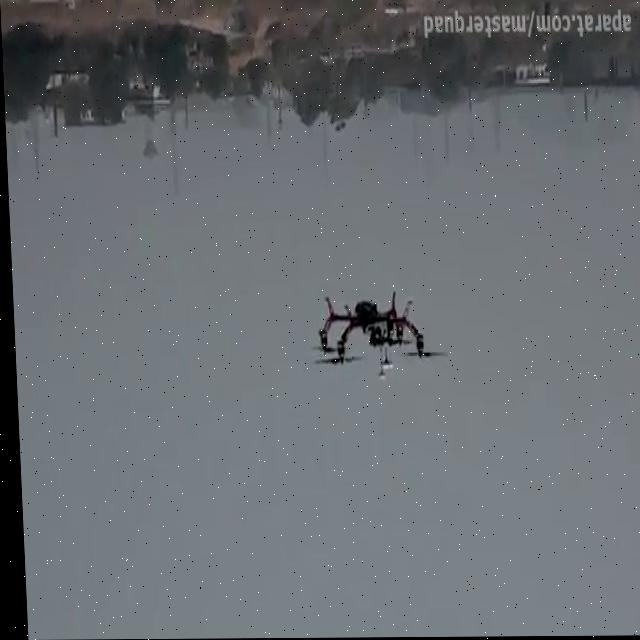drone: (298, 288, 452, 387)
